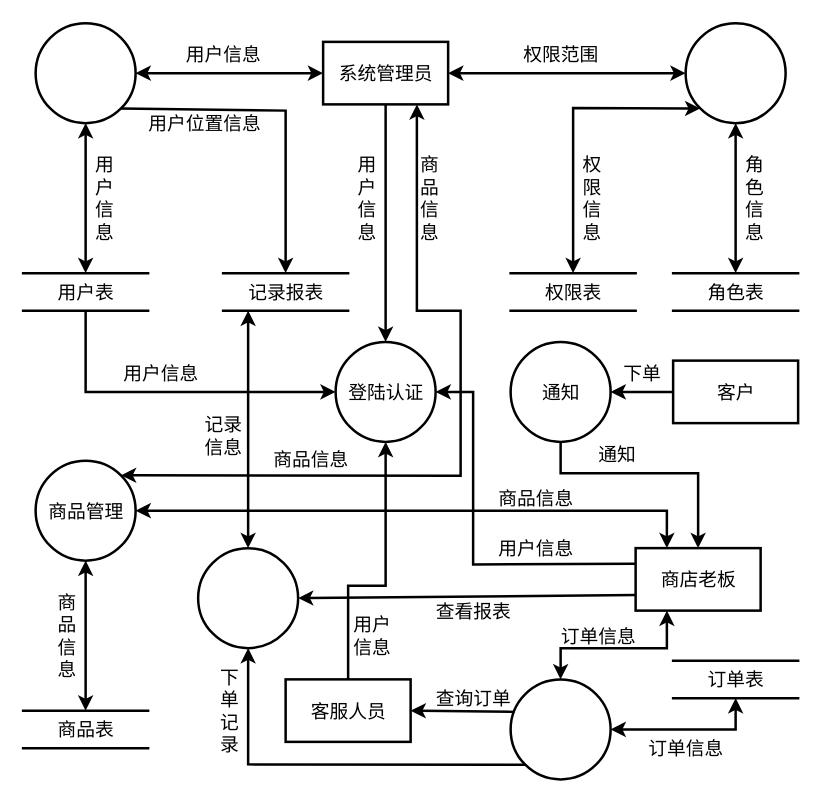
This 820x801 diagram has some shape labels left out. The shapes that lost their labels are listed below. From the top down, each one's box as (x1, y1, x2, y2) in pixels, then its label:
(34, 21, 136, 124): 用户管理
(684, 21, 786, 124): 权限管理
(196, 546, 299, 649): 统计管理
(509, 678, 611, 780): 订单管理
